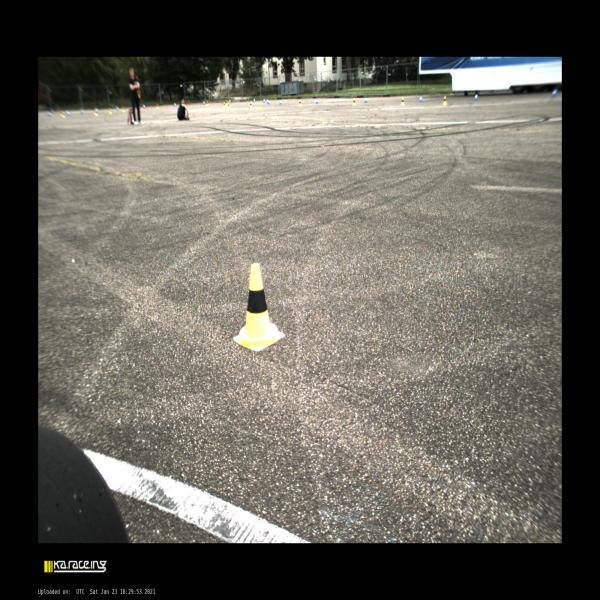blue_cone: (552, 89, 558, 98), (419, 95, 423, 102), (364, 96, 368, 103), (474, 94, 478, 101), (66, 110, 70, 116), (80, 109, 84, 114), (47, 111, 51, 116), (279, 99, 282, 105), (116, 105, 119, 110), (95, 107, 98, 112), (316, 98, 318, 104), (268, 99, 270, 105), (266, 98, 268, 104), (264, 98, 266, 103), (174, 102, 176, 107), (203, 101, 205, 105), (143, 104, 145, 108), (254, 99, 256, 102), (229, 100, 231, 103)
yellow_cone: (233, 263, 285, 351), (443, 96, 447, 105), (401, 97, 405, 105), (352, 98, 356, 106), (298, 99, 302, 107), (62, 110, 66, 118), (94, 109, 98, 116), (249, 102, 253, 108), (122, 106, 125, 112), (109, 108, 112, 114), (228, 101, 230, 109), (223, 102, 225, 108), (206, 100, 208, 106), (157, 103, 159, 109), (226, 100, 227, 105)
